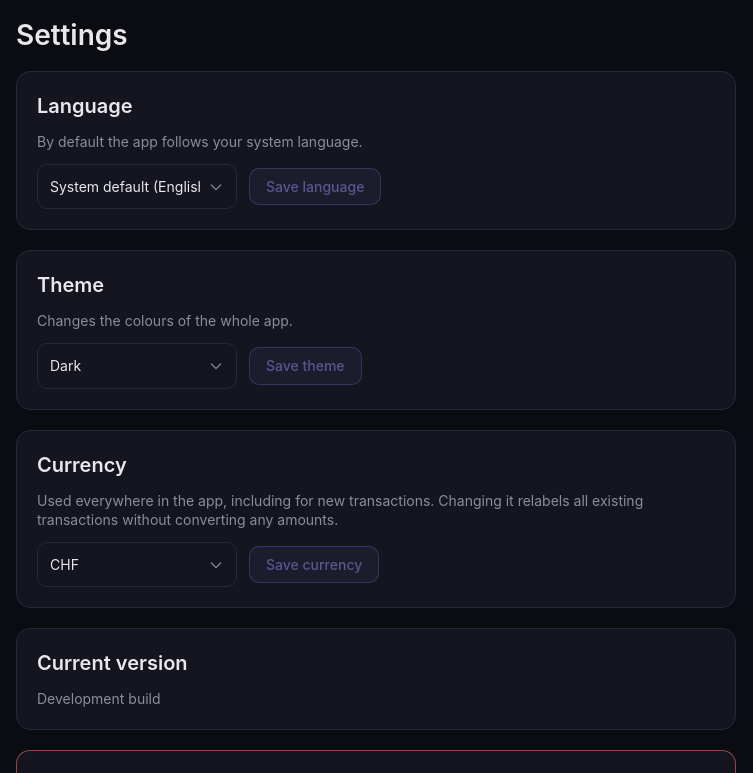
Scenario: SettingsPage translations › switches language after saving a new one
Step 1. Click the button "System default (English)" → (137, 187), box [37,164,237,209]
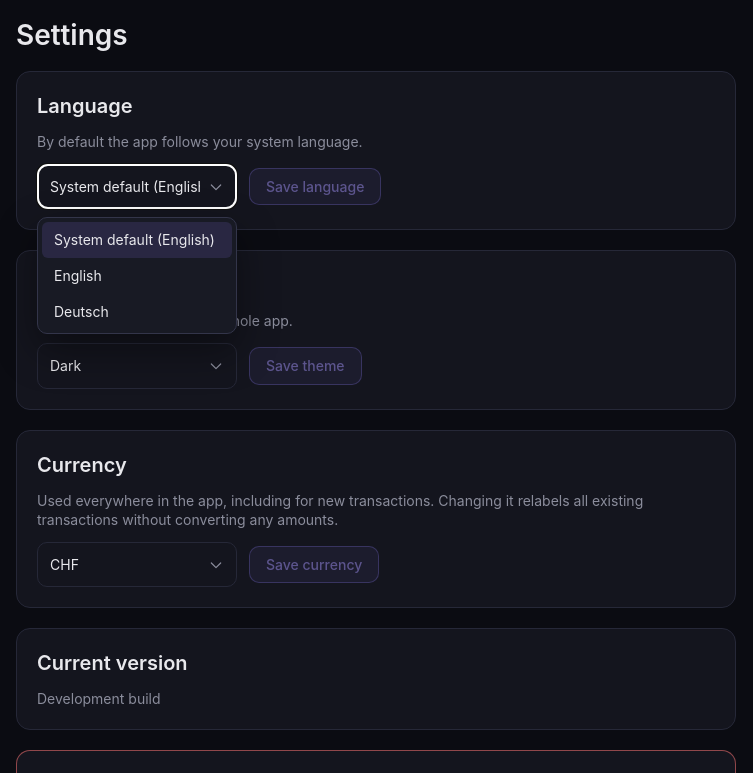
Step 2. Click the option "Deutsch" → (137, 311), box [42,294,232,329]
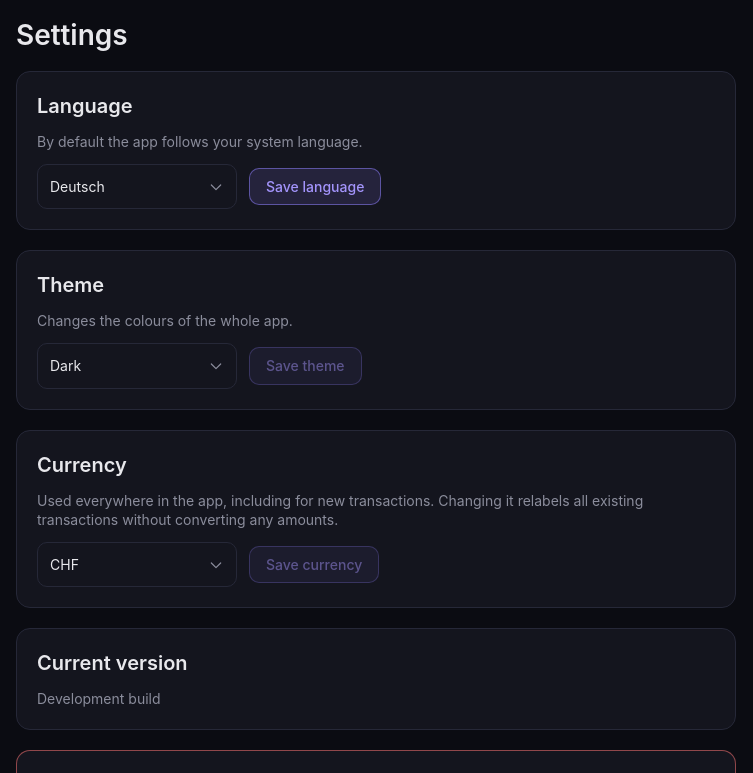
Step 3. Click the button "Save language" → (315, 187), box [249,168,381,205]
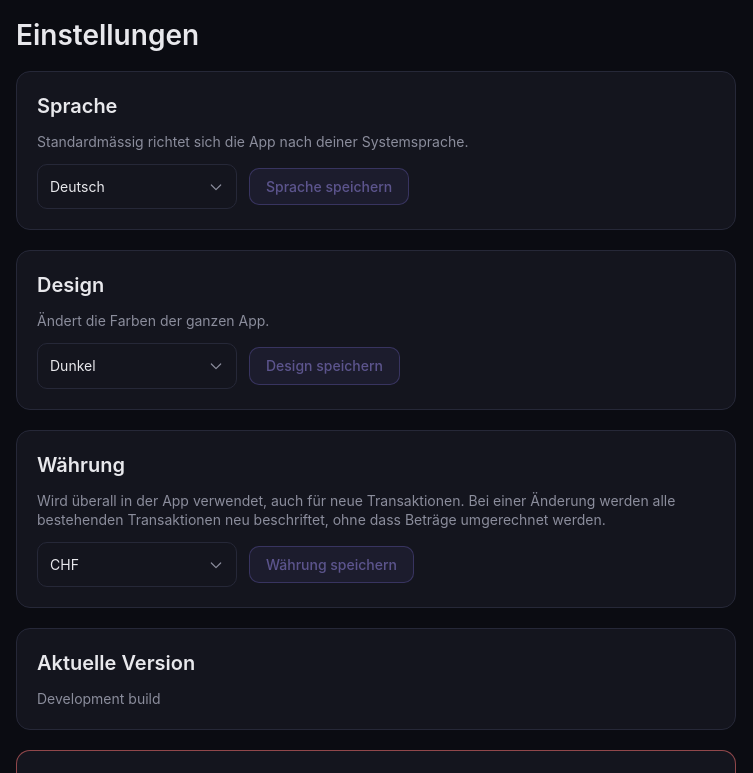
Result: the heading "Einstellungen" is shown at [16,16,199,55]
